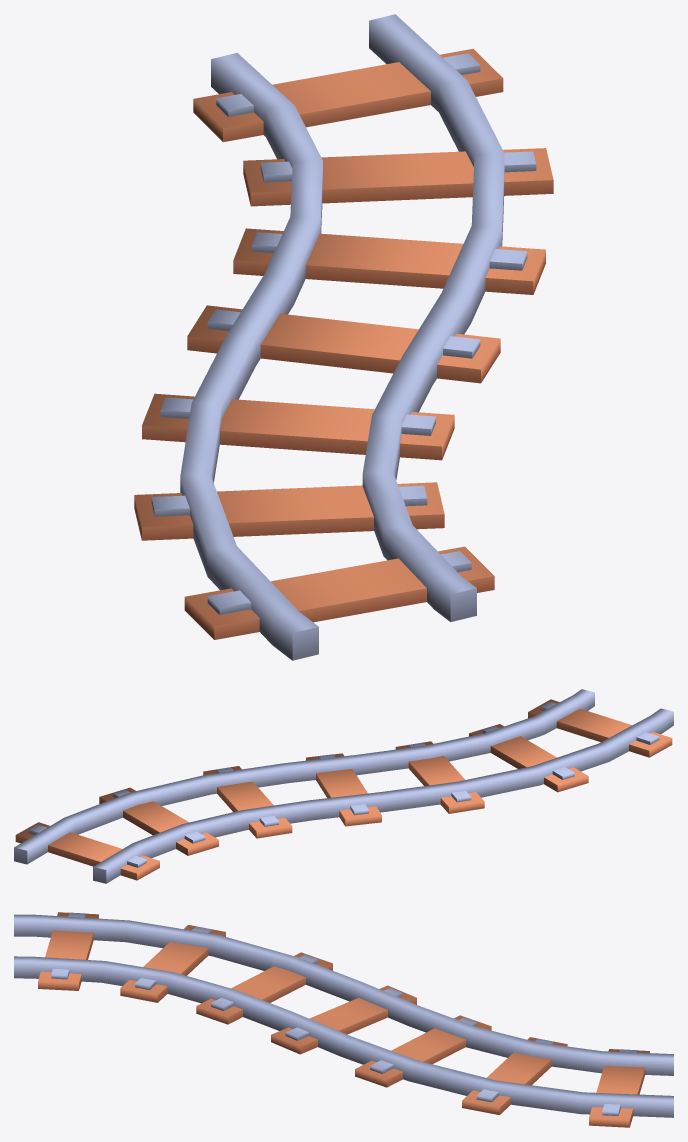
File: kenney-train-railroad-curve.glb
The picture shows the model from 3 angles, top to bottom: view 1: azimuth 30°, elevation 25°; view 2: azimuth 150°, elevation 25°; view 3: azimuth 270°, elevation 25°; orthographic projection. The views are drawn at different scales.
Visible parts, largest first — view 1: railroad-curve; view 2: railroad-curve; view 3: railroad-curve.
Part boxes in pixels (bbox=[...]): railroad-curve: bbox=[134, 14, 553, 660]; railroad-curve: bbox=[14, 689, 673, 883]; railroad-curve: bbox=[14, 912, 673, 1127].
Bounding box in the file's own units: 2.98 × 0.1001 × 4.
1 material, 1 textured.
